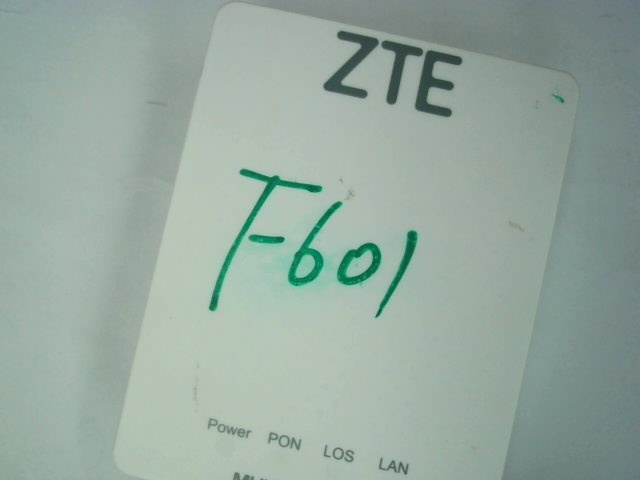AN_ZTE: (310, 25, 475, 128)
